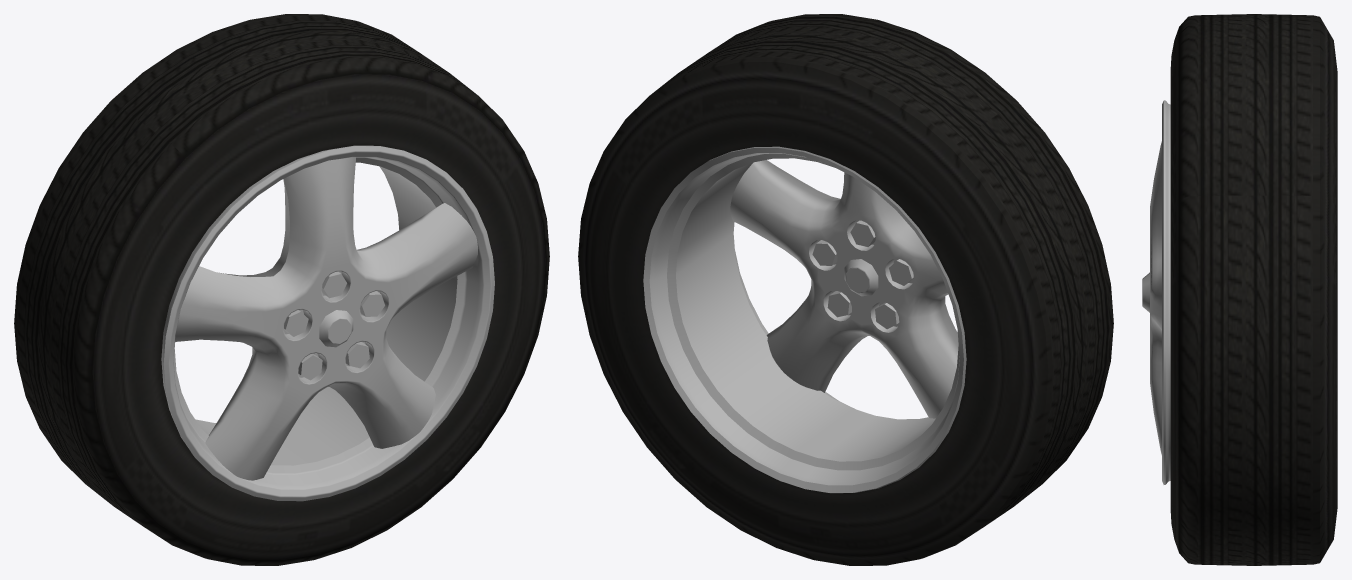
3 renders of one model, left to right at view 1: azimuth 30°, elevation 25°; view 2: azimuth 150°, elevation 25°; view 3: azimuth 270°, elevation 25°, orthographic.
Parts seen in each view (by area): view 1: P353_20_901C_R_1_DM_P353_20_901C_R, P353_20_901C_R_P353_20_901C_R_2_DaS; view 2: P353_20_901C_R_1_DM_P353_20_901C_R, P353_20_901C_R_P353_20_901C_R_2_DaS; view 3: P353_20_901C_R_1_DM_P353_20_901C_R, P353_20_901C_R_P353_20_901C_R_2_DaS.
Boxes of the visible parts, bbox=[...] form: P353_20_901C_R_1_DM_P353_20_901C_R: bbox=[14, 14, 549, 565]; P353_20_901C_R_P353_20_901C_R_2_DaS: bbox=[161, 145, 494, 501]; P353_20_901C_R_1_DM_P353_20_901C_R: bbox=[578, 14, 1113, 565]; P353_20_901C_R_P353_20_901C_R_2_DaS: bbox=[643, 146, 966, 493]; P353_20_901C_R_1_DM_P353_20_901C_R: bbox=[1170, 14, 1337, 565]; P353_20_901C_R_P353_20_901C_R_2_DaS: bbox=[1142, 100, 1170, 484].
Size of the model in its own units: 70.17 by 70.17 by 24.81.
